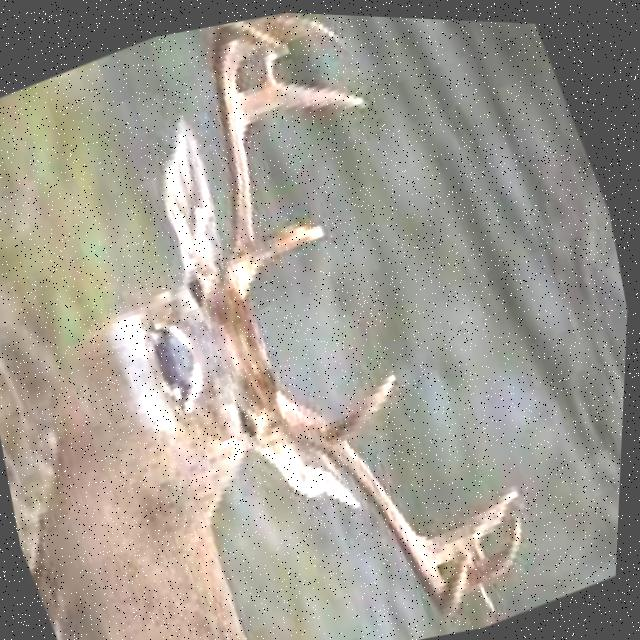L-F: (278, 388, 472, 612)
L-G1: (326, 370, 398, 442)
R-F: (211, 19, 264, 299)
R-G1: (250, 220, 327, 271)
R-G2: (237, 78, 366, 126)
